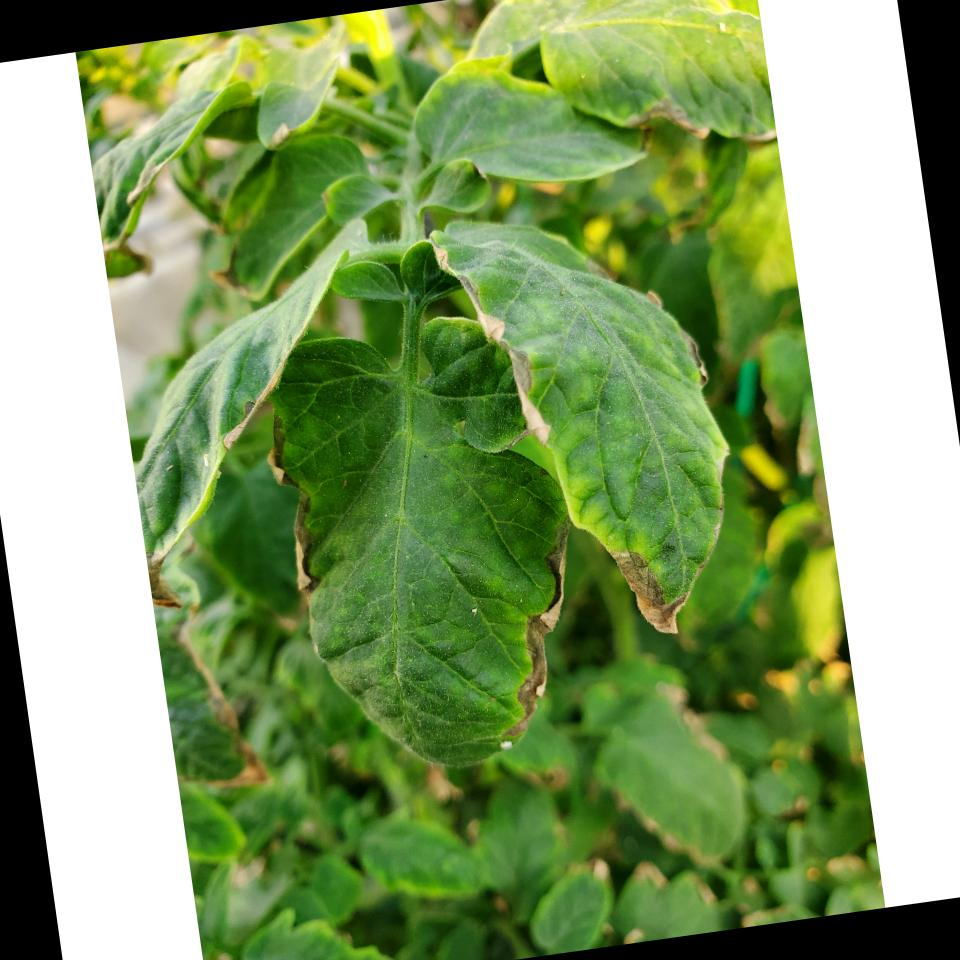tomato_bacterial_blight: (422, 156, 782, 668), (264, 382, 602, 788)
